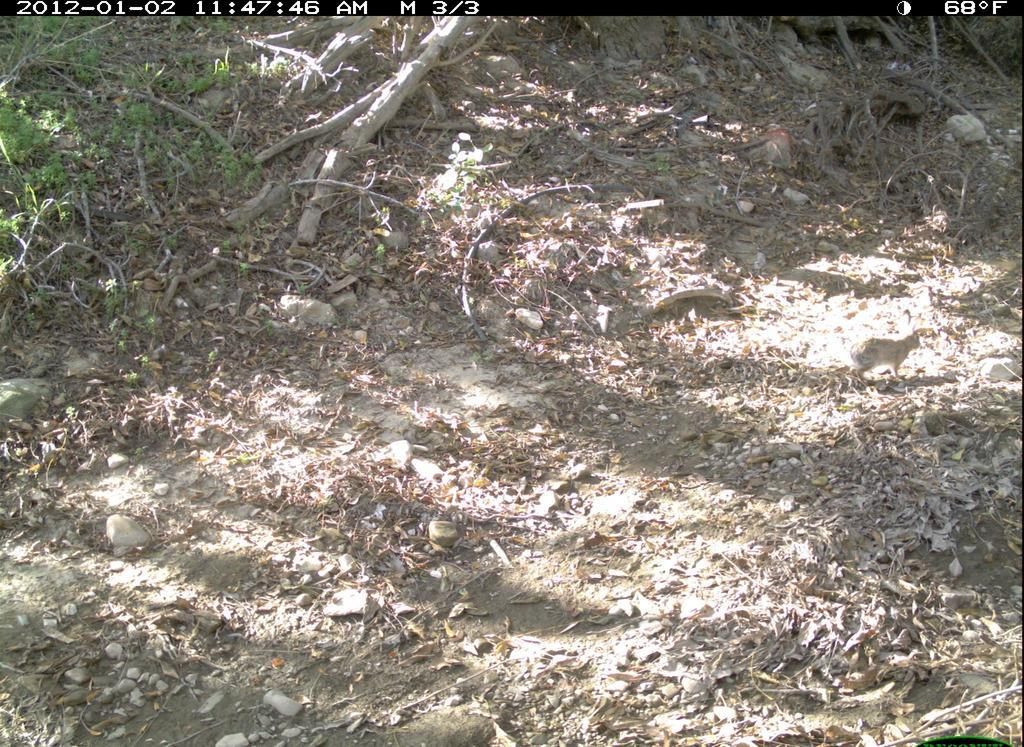rabbit: (850, 310, 925, 384)
